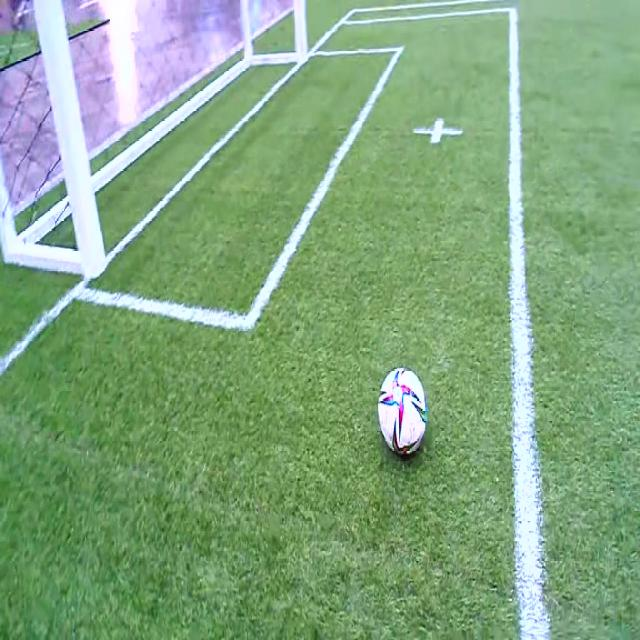ball: (377, 366, 427, 455)
